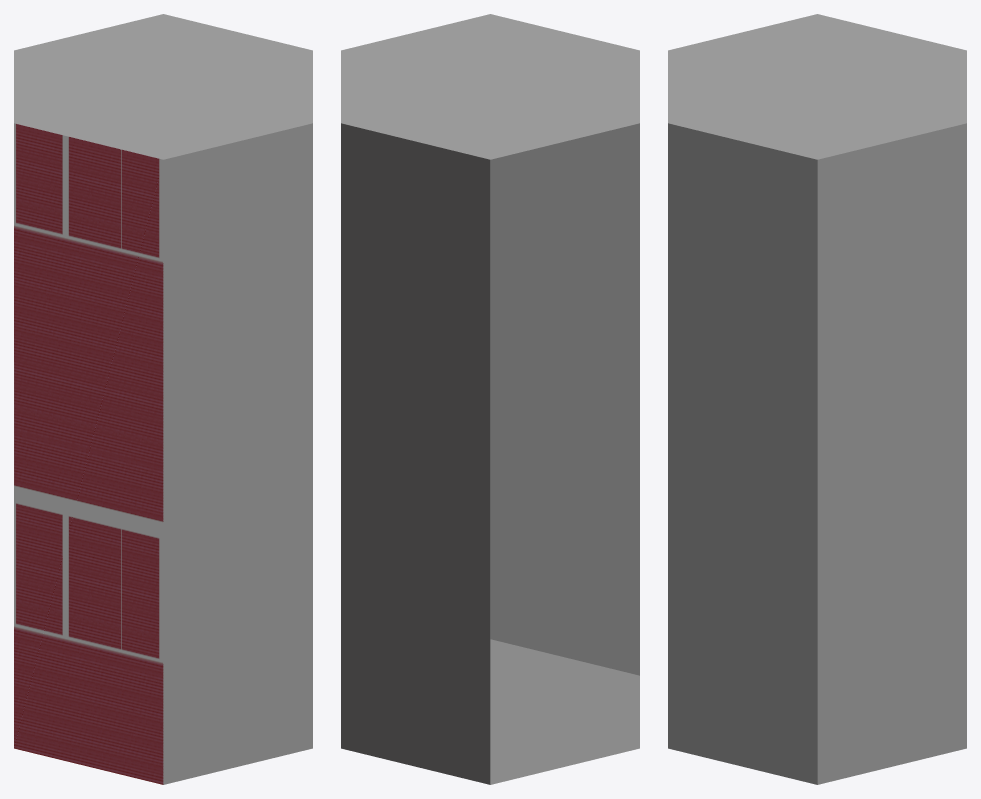
File: monstre.fbx
3 views of the same model, side by side, from view 1: azimuth 30°, elevation 25°; view 2: azimuth 150°, elevation 25°; view 3: azimuth 270°, elevation 25° (orthographic).
Parts seen in each view (by area): view 1: monstre; view 2: monstre; view 3: monstre.
Part boxes in pixels (<box>): monstre: <box>14,14,312,784</box>; monstre: <box>341,14,639,784</box>; monstre: <box>668,14,966,784</box>.
Bounding box in the file's own units: 1 × 2 × 0.866.
